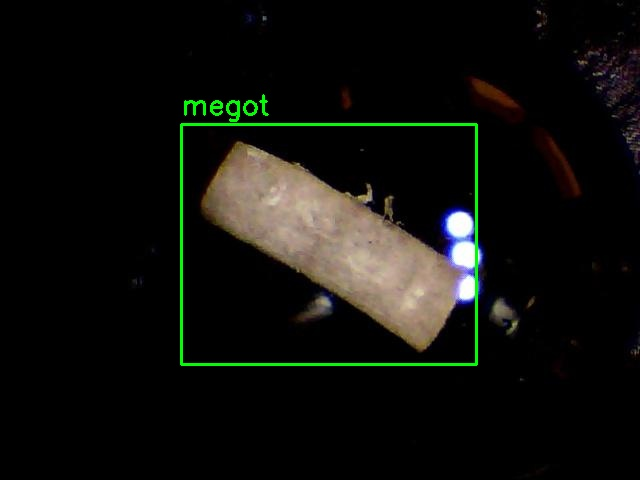megot: (181, 124, 476, 364)
